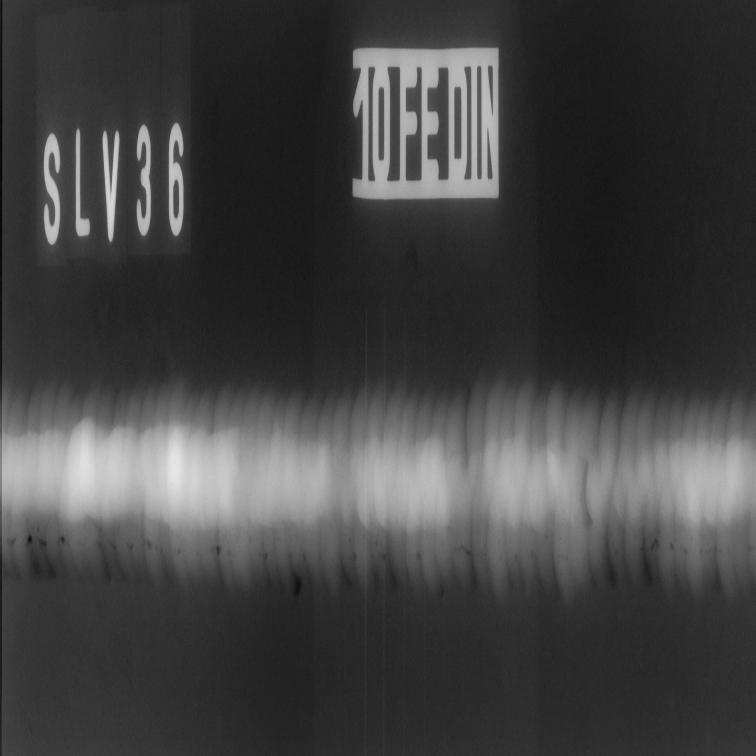FF: (3, 490, 624, 600)
